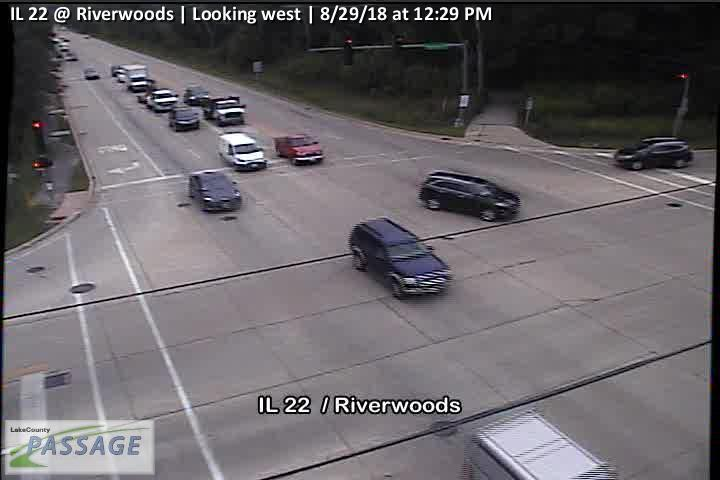SUV: (420, 169, 521, 219), (215, 132, 270, 176)
Sedan: (347, 216, 453, 299), (614, 138, 694, 170), (188, 171, 242, 214), (272, 133, 325, 164), (168, 104, 201, 131), (145, 87, 179, 112), (182, 83, 210, 105)
Truck: (205, 92, 247, 122)
